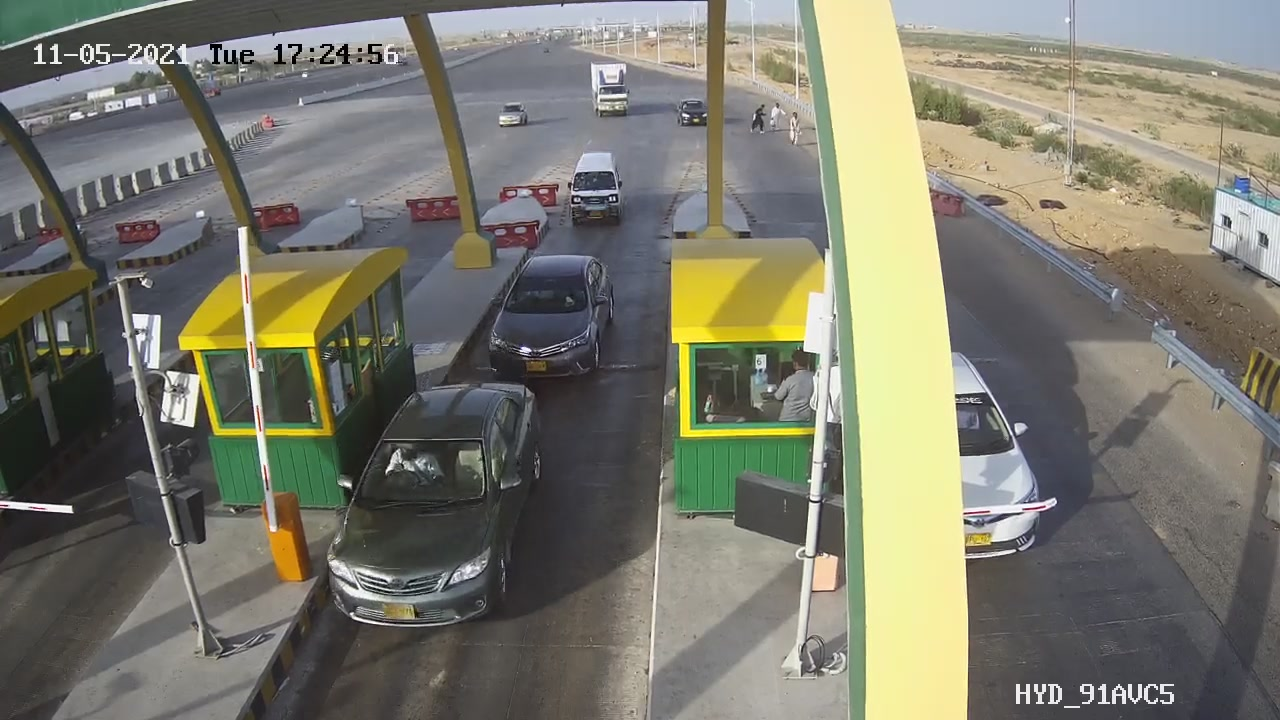F1: (308, 368, 570, 646), (468, 242, 631, 394)
